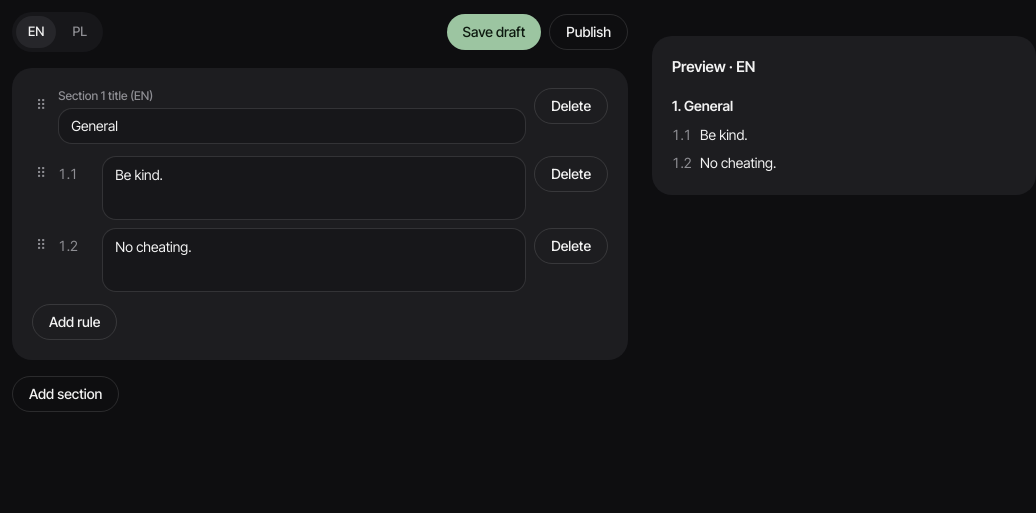
Test: RulesEditor › says the draft changed when a publish is refused as stale
Expected: the field named "Rule 1.1 (EN)" is shown, [102,156,526,220]
Click the button "Publish" at (589, 32), box [549,14,628,50]
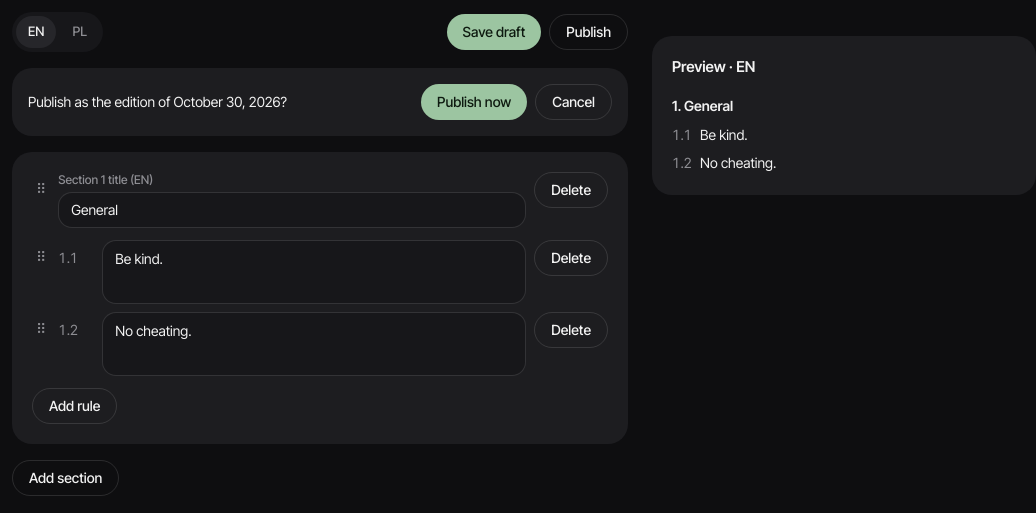
Click the button "Publish now" at (474, 102), box [421,84,527,120]
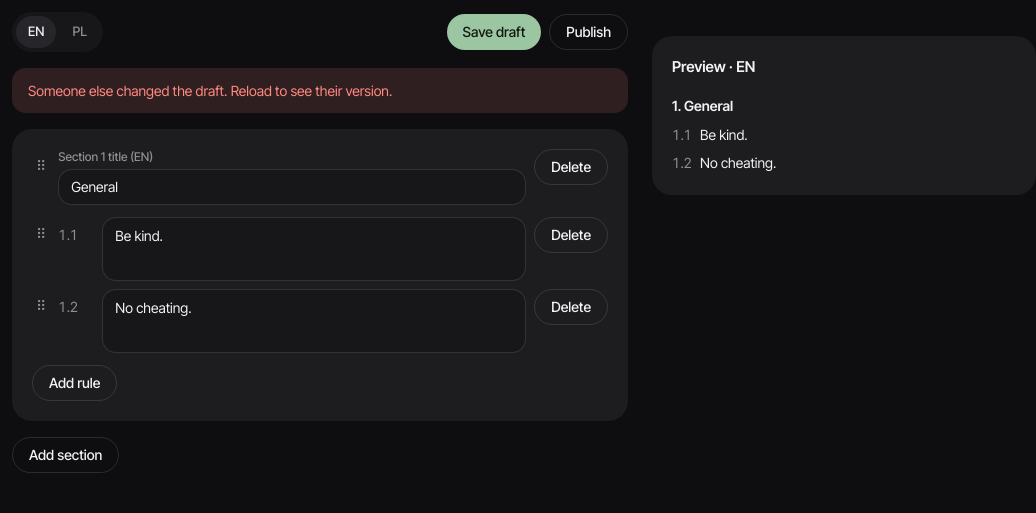
Expected: the message reads "Someone else changed the draft. Reload to see their version.", [28,82,392,99]
